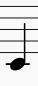LC: (4, 3, 32, 73)
